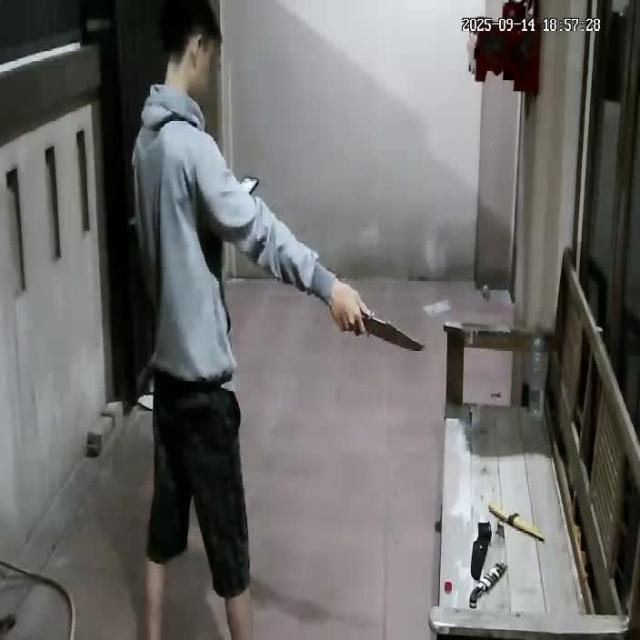senjata_tajam: (362, 312, 427, 352)
